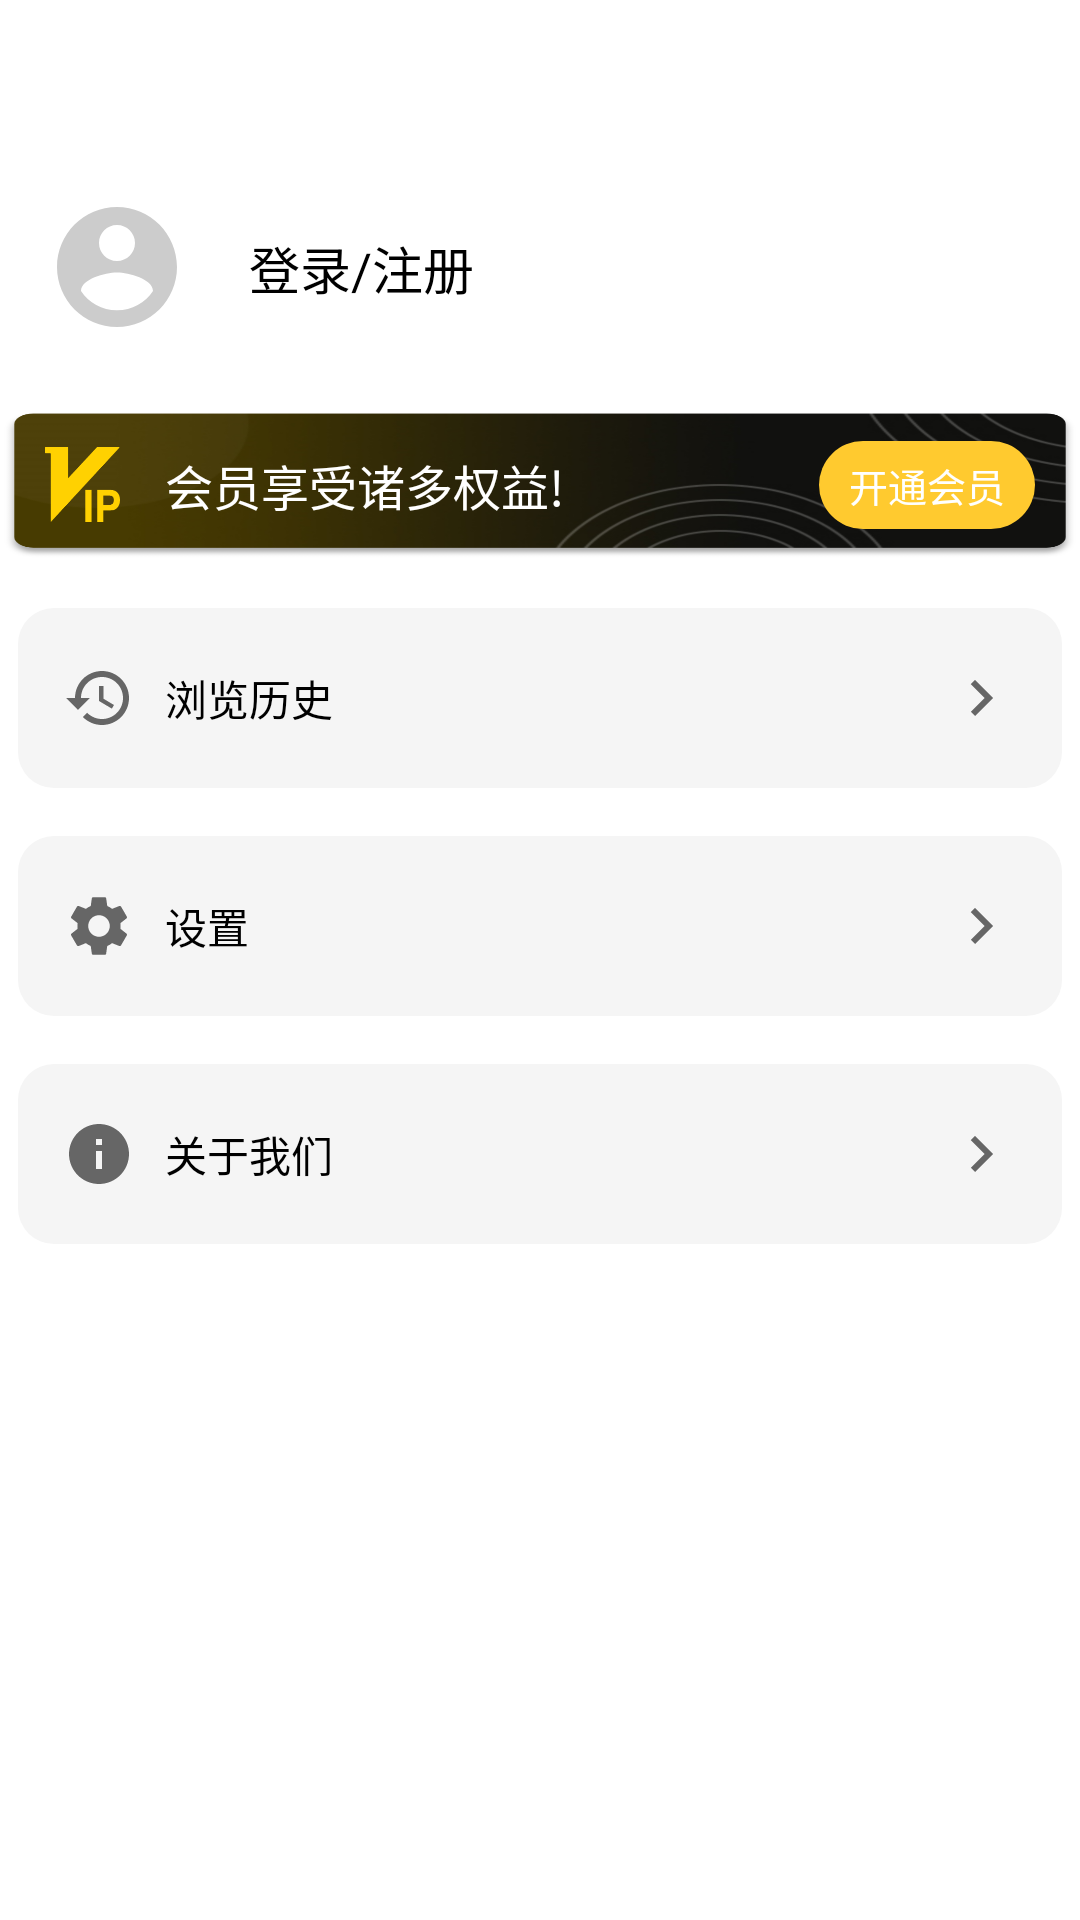

Icons on this 1080 x 1920 Android screen, each with its box as (x1, y1, x2, y2):
about: (69, 1124, 129, 1184)
arrow right: (971, 680, 993, 716), (971, 908, 993, 944), (971, 1136, 993, 1172)
history: (66, 671, 129, 725)
settings: (71, 897, 127, 955)
